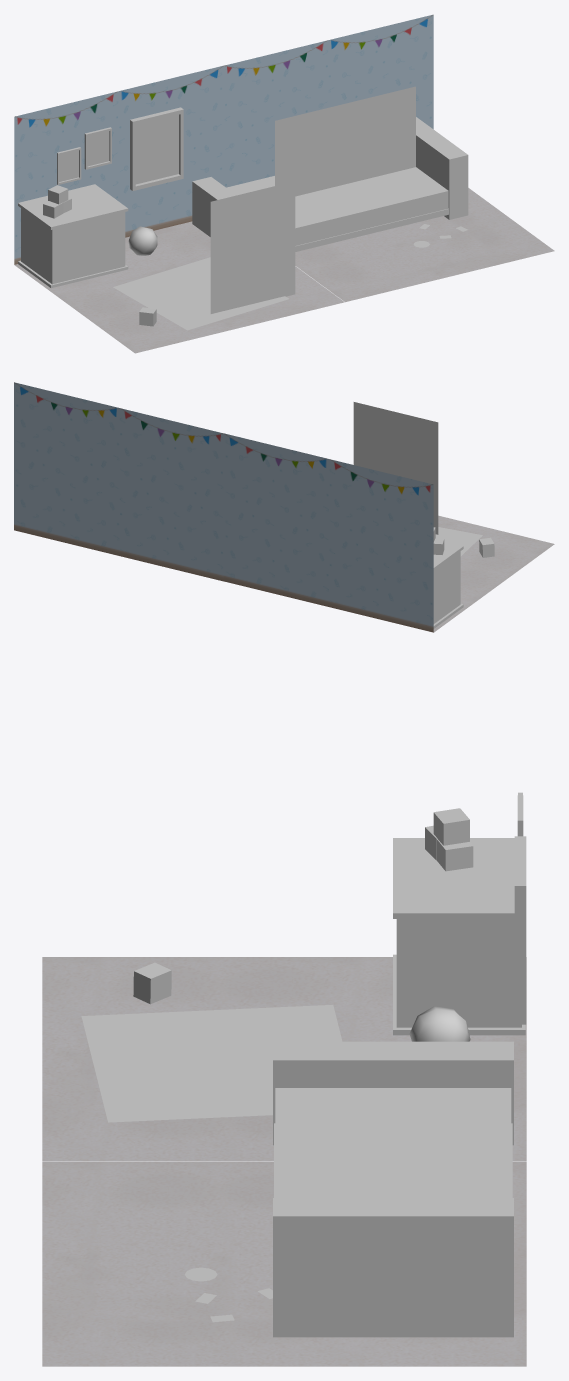
The picture shows the model from 3 angles, top to bottom: view 1: azimuth 30°, elevation 25°; view 2: azimuth 150°, elevation 25°; view 3: azimuth 270°, elevation 25°; orthographic projection. The views are drawn at different scales.
Visible parts, largest first — view 1: wallBedroom2_mesh, wallBedroom1_mesh, floorBedroom_meah, bed_mesh, cryKid_mesh, floorBedroom2_meah, dad2_mesh, locker_mesh, capet_mesh, frame_mesh, frame3_mesh, frame2_mesh (+1 smaller); view 2: wallBedroom2_mesh, wallBedroom1_mesh, dad2_mesh, floorBedroom2_meah, locker_mesh, capet_mesh; view 3: bed_mesh, floorBedroom_meah, floorBedroom2_meah, capet_mesh, locker_mesh, frame_mesh, ball_mesh, toyBox4_mesh, toyBox1_mesh, toyBox2_mesh.
Boxes of the visible parts, bbox=[...] form: wallBedroom2_mesh: bbox=[14, 65, 224, 264]; wallBedroom1_mesh: bbox=[224, 14, 433, 187]; floorBedroom_meah: bbox=[295, 188, 554, 302]; bed_mesh: bbox=[192, 117, 468, 251]; cryKid_mesh: bbox=[275, 86, 415, 196]; floorBedroom2_meah: bbox=[14, 221, 344, 353]; dad2_mesh: bbox=[210, 181, 295, 313]; locker_mesh: bbox=[18, 184, 128, 288]; capet_mesh: bbox=[113, 257, 289, 330]; frame_mesh: bbox=[130, 107, 183, 190]; frame3_mesh: bbox=[84, 127, 111, 169]; frame2_mesh: bbox=[57, 147, 81, 184]; wallBedroom2_mesh: bbox=[223, 433, 433, 632]; wallBedroom1_mesh: bbox=[14, 382, 223, 581]; dad2_mesh: bbox=[353, 402, 438, 534]; floorBedroom2_meah: bbox=[433, 515, 554, 632]; locker_mesh: bbox=[433, 541, 463, 628]; capet_mesh: bbox=[435, 527, 482, 556]; bed_mesh: bbox=[273, 1041, 513, 1337]; floorBedroom_meah: bbox=[42, 1162, 526, 1366]; floorBedroom2_meah: bbox=[42, 957, 526, 1161]; capet_mesh: bbox=[81, 1005, 342, 1122]; locker_mesh: bbox=[393, 838, 525, 1035]; frame_mesh: bbox=[514, 836, 526, 1024]; ball_mesh: bbox=[409, 1006, 470, 1041]; toyBox4_mesh: bbox=[133, 962, 171, 1004]; toyBox1_mesh: bbox=[433, 808, 469, 845]; toyBox2_mesh: bbox=[436, 838, 473, 871].
Bounding box in the file's own units: 2 × 0.6775 × 1.
